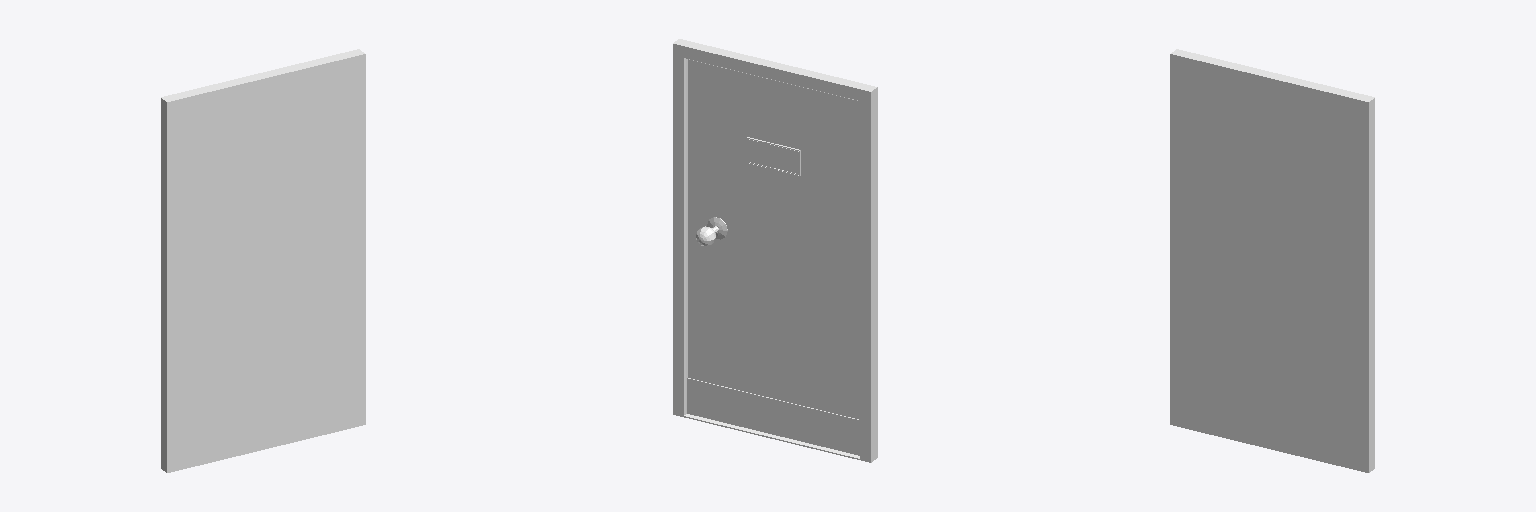
Rendered from door.obj.
The picture shows the model from 3 angles: view 1: azimuth 30°, elevation 25°; view 2: azimuth 150°, elevation 25°; view 3: azimuth 330°, elevation 25°; orthographic projection.
Visible parts, largest first — view 1: door2; view 2: door2; view 3: door2.
Boxes of the visible parts, x1=… form: door2: x1=161, y1=49, x2=365, y2=472; door2: x1=673, y1=39, x2=877, y2=462; door2: x1=1170, y1=49, x2=1374, y2=472.
Bounding box in the file's own units: 1.37 × 2.44 × 0.2491.